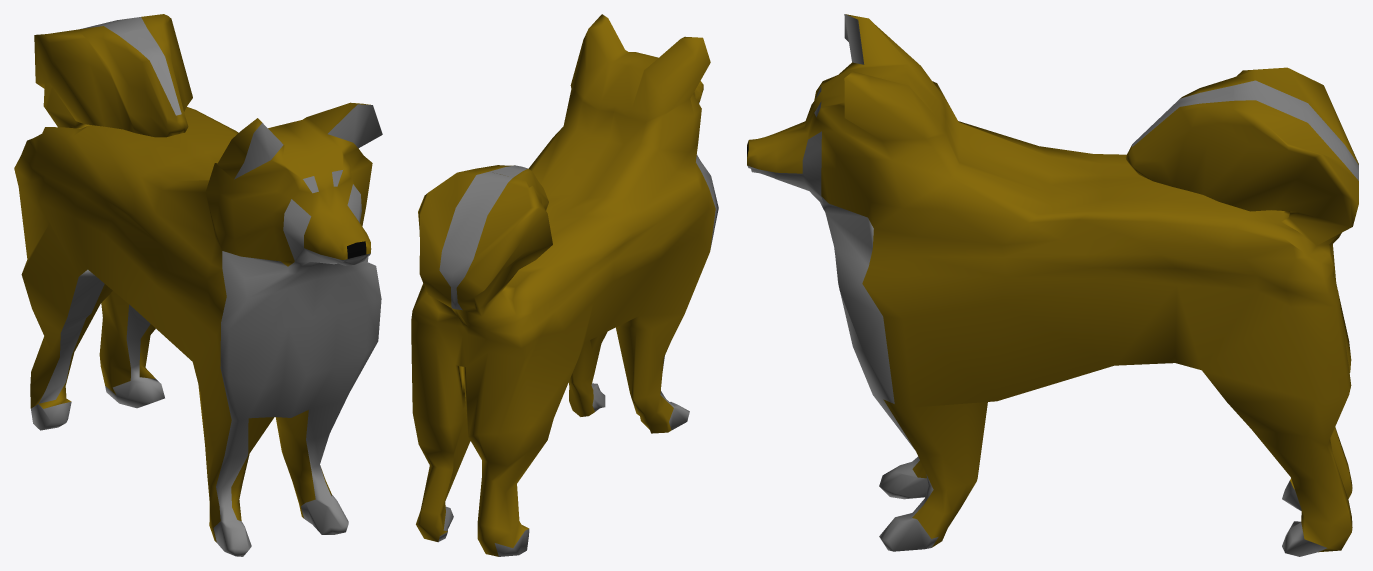
Rendered from Low_poly_dog_Extra.obj.
3 renders of one model, left to right at view 1: azimuth 30°, elevation 25°; view 2: azimuth 150°, elevation 25°; view 3: azimuth 270°, elevation 25°, orthographic. The views are drawn at different scales.
Visible parts, largest first — view 1: pCube11_pCube11; view 2: pCube11_pCube11; view 3: pCube11_pCube11.
Boxes of the visible parts, box(x1,y1,x2,y2) form: pCube11_pCube11: box(14, 14, 382, 556); pCube11_pCube11: box(411, 14, 718, 556); pCube11_pCube11: box(747, 14, 1358, 556).
Bounding box in the file's own units: 23.83 × 62.62 × 70.62.
